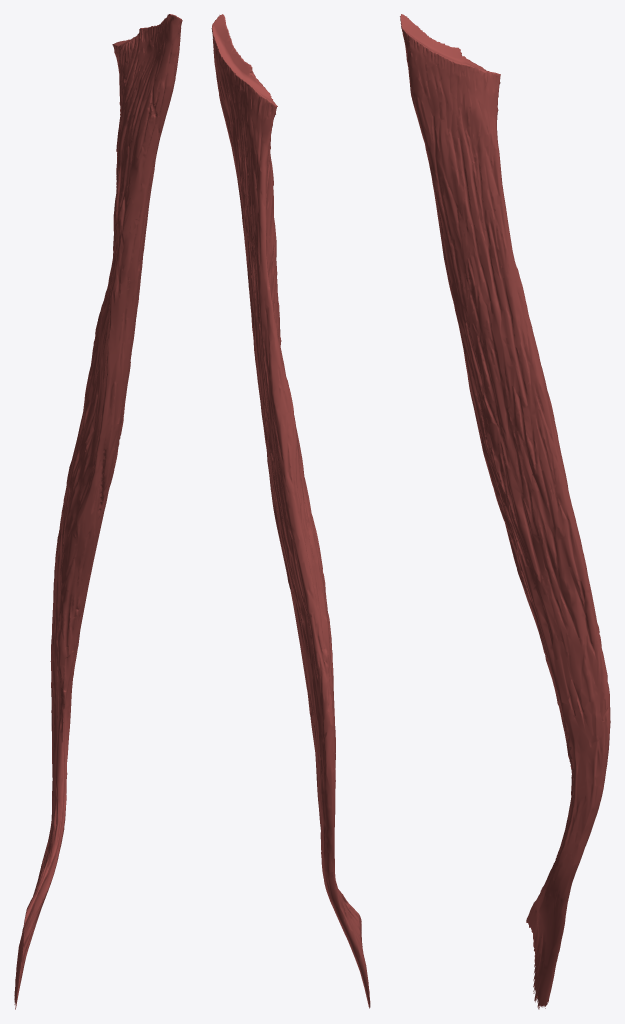
Rendered from FMA43883.glb.
3 views of the same model, side by side, from view 1: azimuth 30°, elevation 25°; view 2: azimuth 210°, elevation 25°; view 3: azimuth 270°, elevation 25° (orthographic). The views are drawn at different scales.
Visible parts, largest first — view 1: FMA43883; view 2: FMA43883; view 3: FMA43883.
Part boxes in pixels (<box>): FMA43883: <box>14,14,182,1009</box>; FMA43883: <box>211,14,370,1008</box>; FMA43883: <box>400,14,610,1009</box>.
Size of the model in its own units: 0.0521 by 0.4782 by 0.088.
